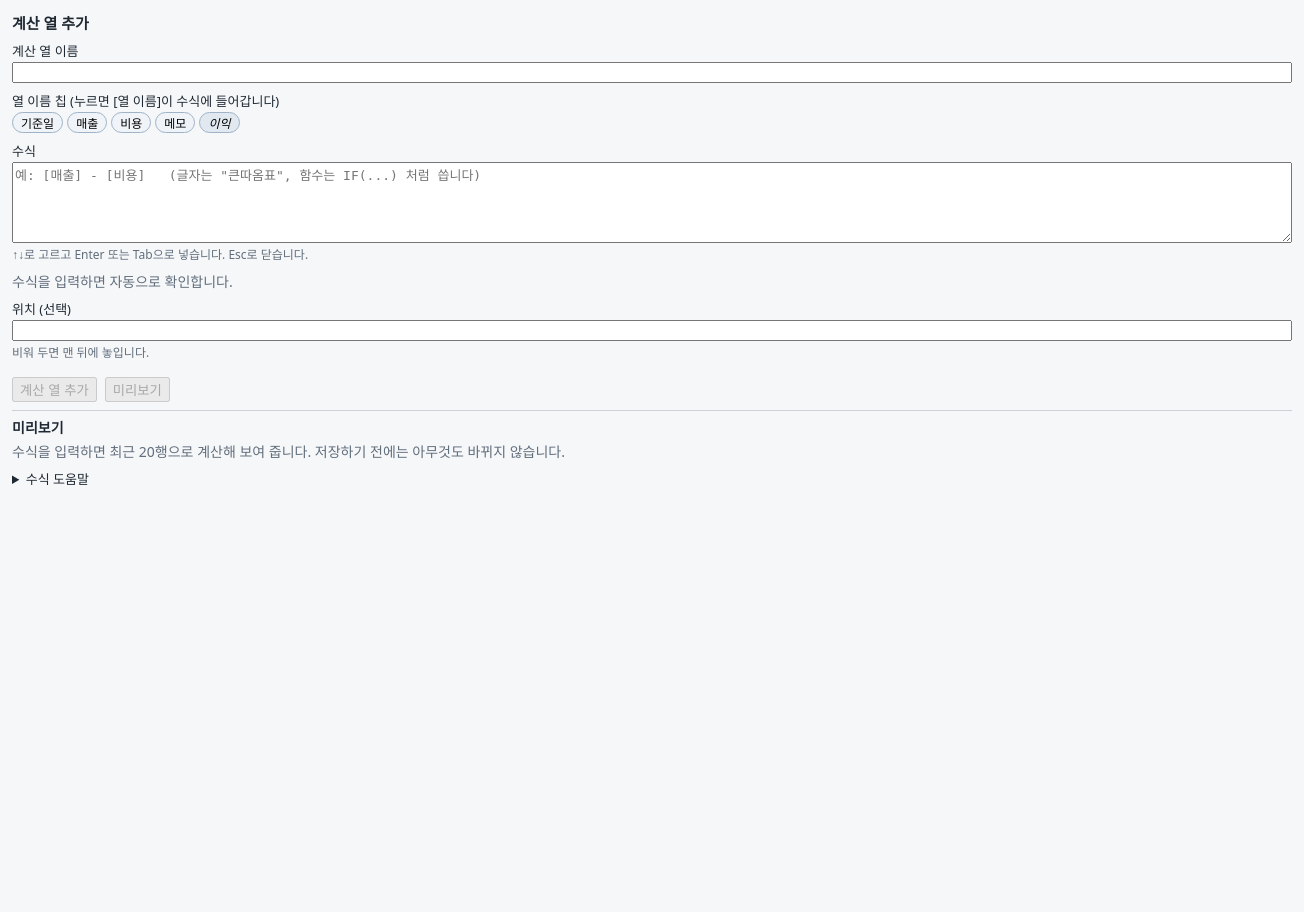
Scenario: 열 이름 칩 › 칩을 누르면 커서 위치에 [열 이름]이 들어가고 커서는 그 뒤에 놓인다
The width and height of the screenshot is (1304, 912).
In the text box labelled "수식": (652, 202) top-left (12, 162), bottom-right (1292, 243), type "1 + "
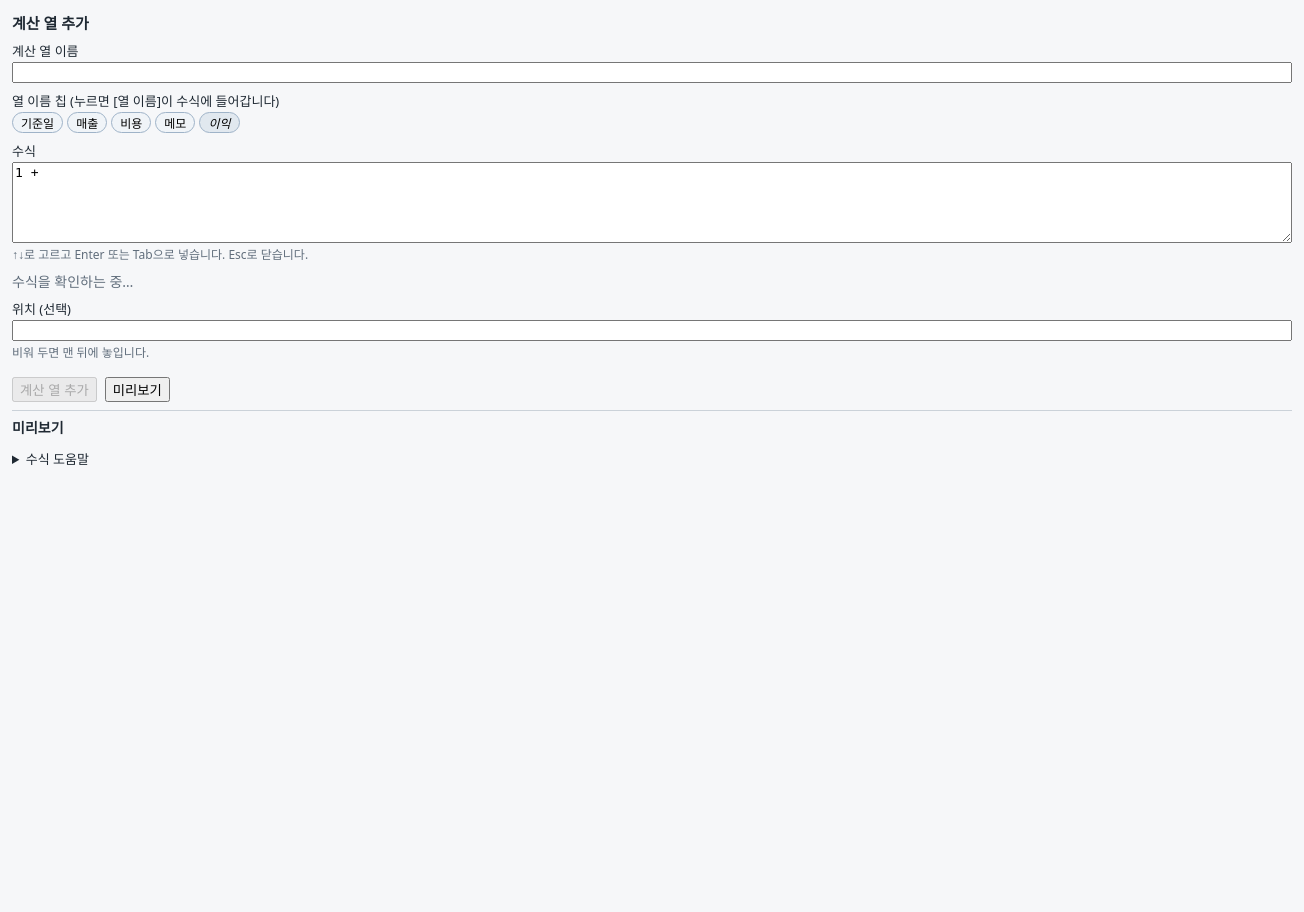
Press x in the text box labelled "수식", box top-left (12, 162), bottom-right (1292, 243)
Click the button "매출": (87, 122) top-left (67, 112), bottom-right (107, 133)
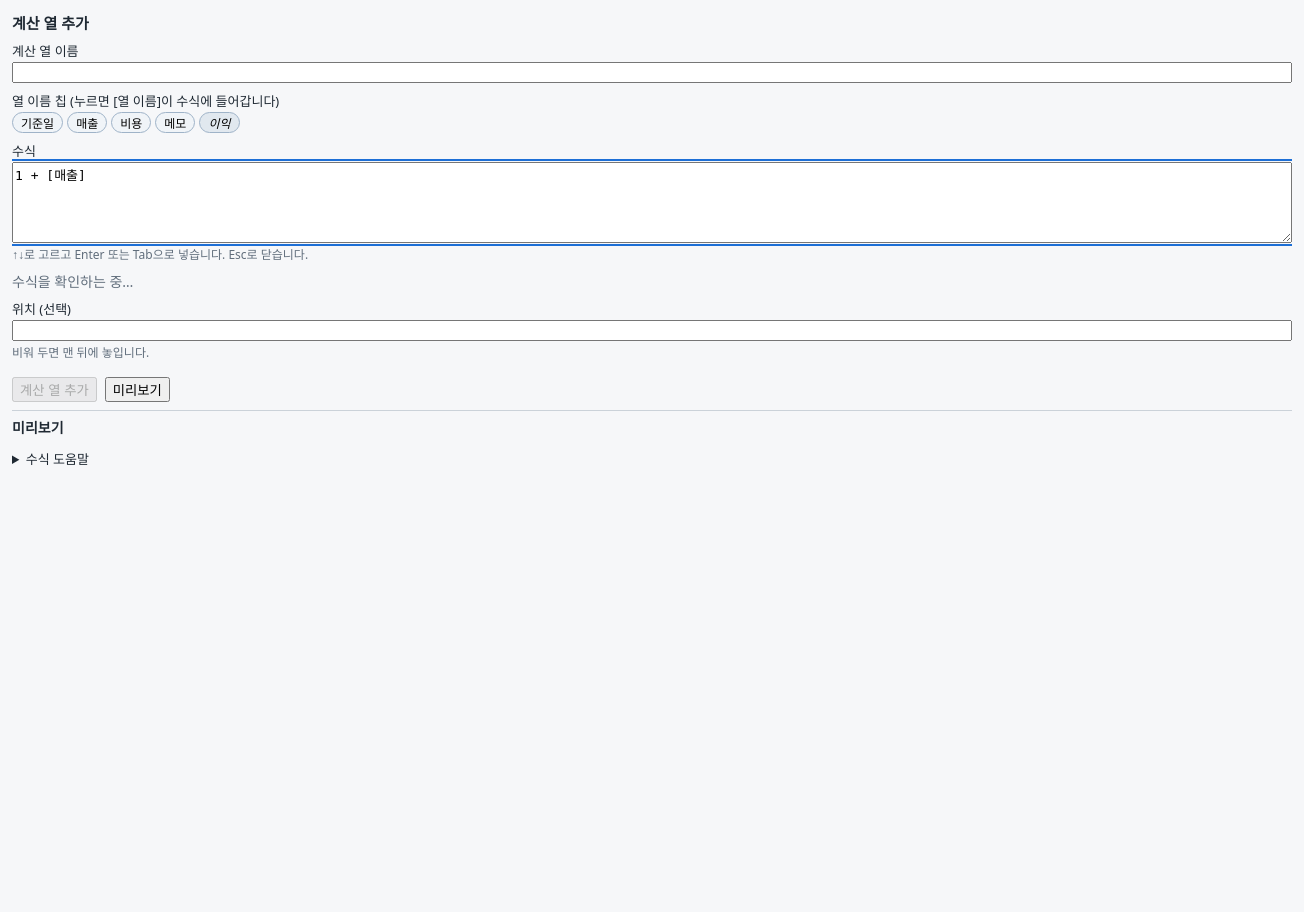
Check: the text box labelled "수식" holds "1 + [매출]", box top-left (12, 162), bottom-right (1292, 243)
Click the button "비용": (131, 122) top-left (111, 112), bottom-right (151, 133)
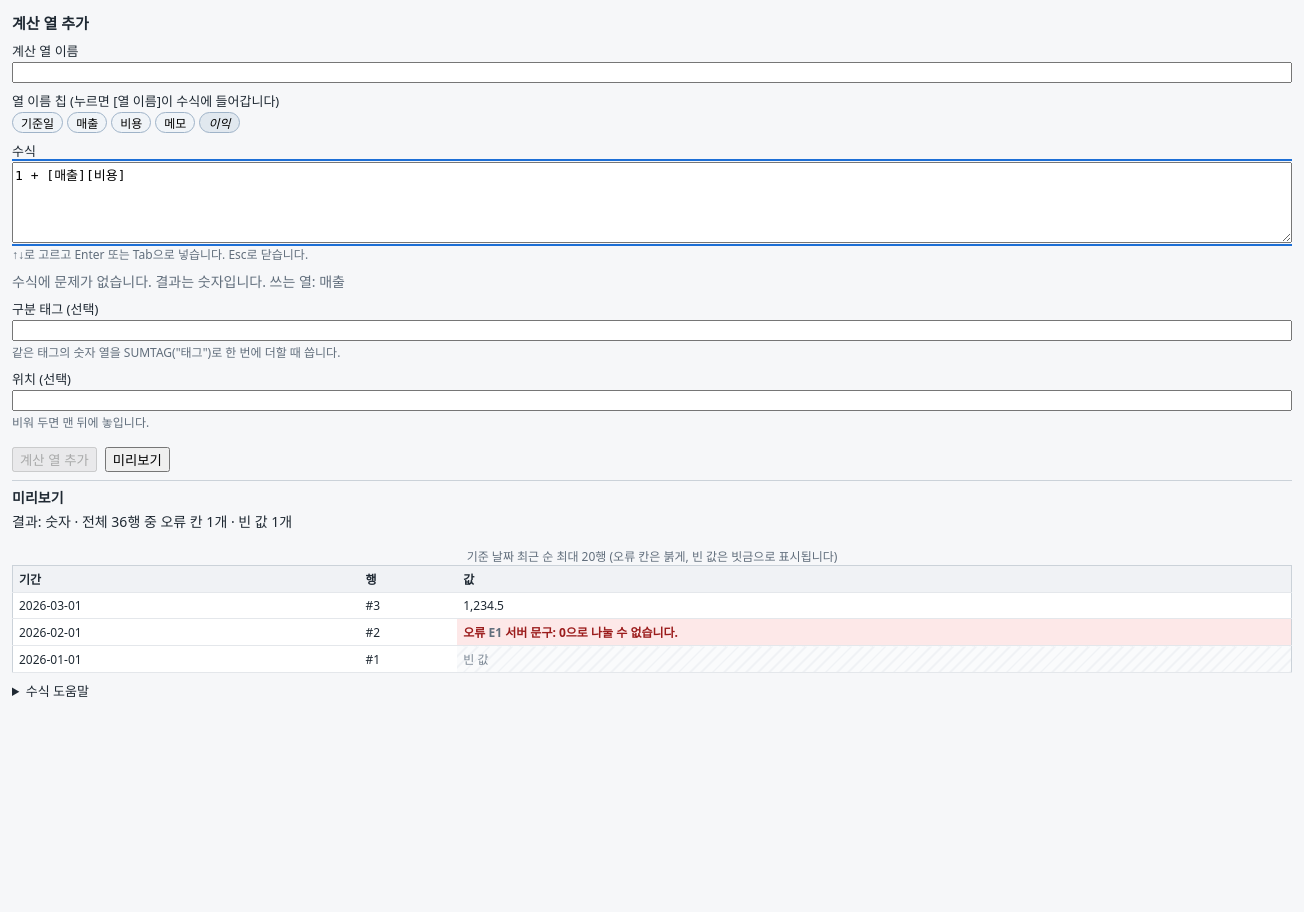
Check: the text box labelled "수식" holds "1 + [매출][비용]", box top-left (12, 162), bottom-right (1292, 243)
